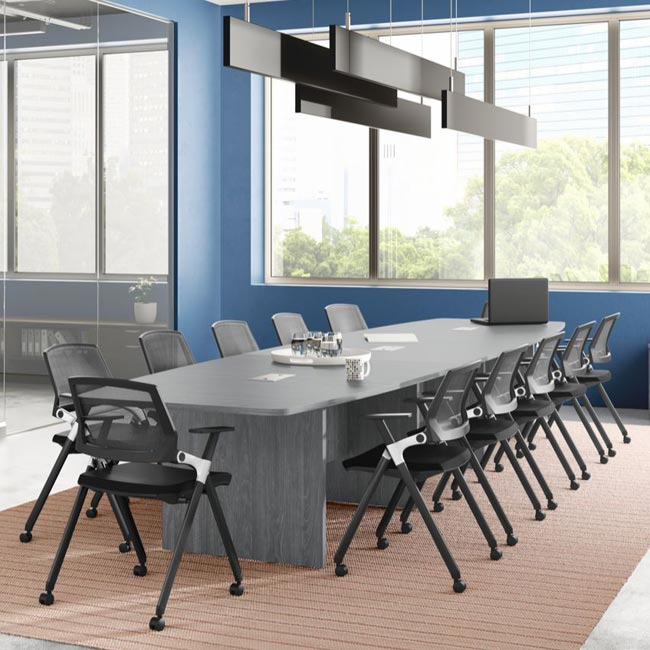conference_table: (77, 317, 568, 570)
